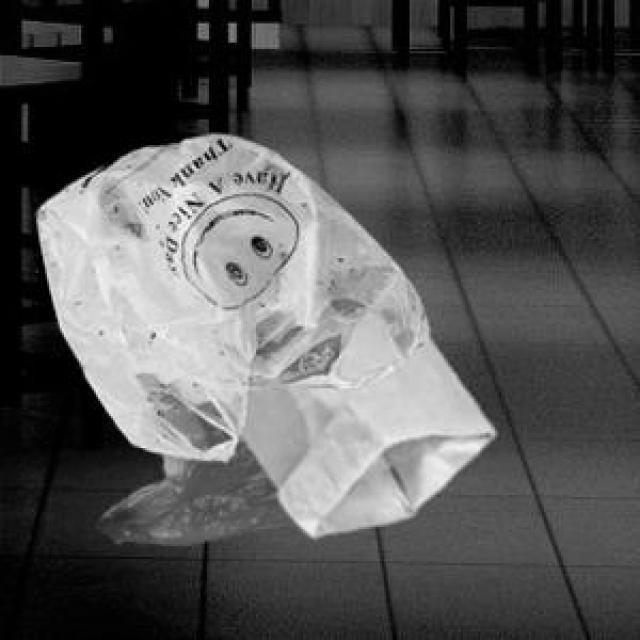paper: (237, 305, 491, 533)
